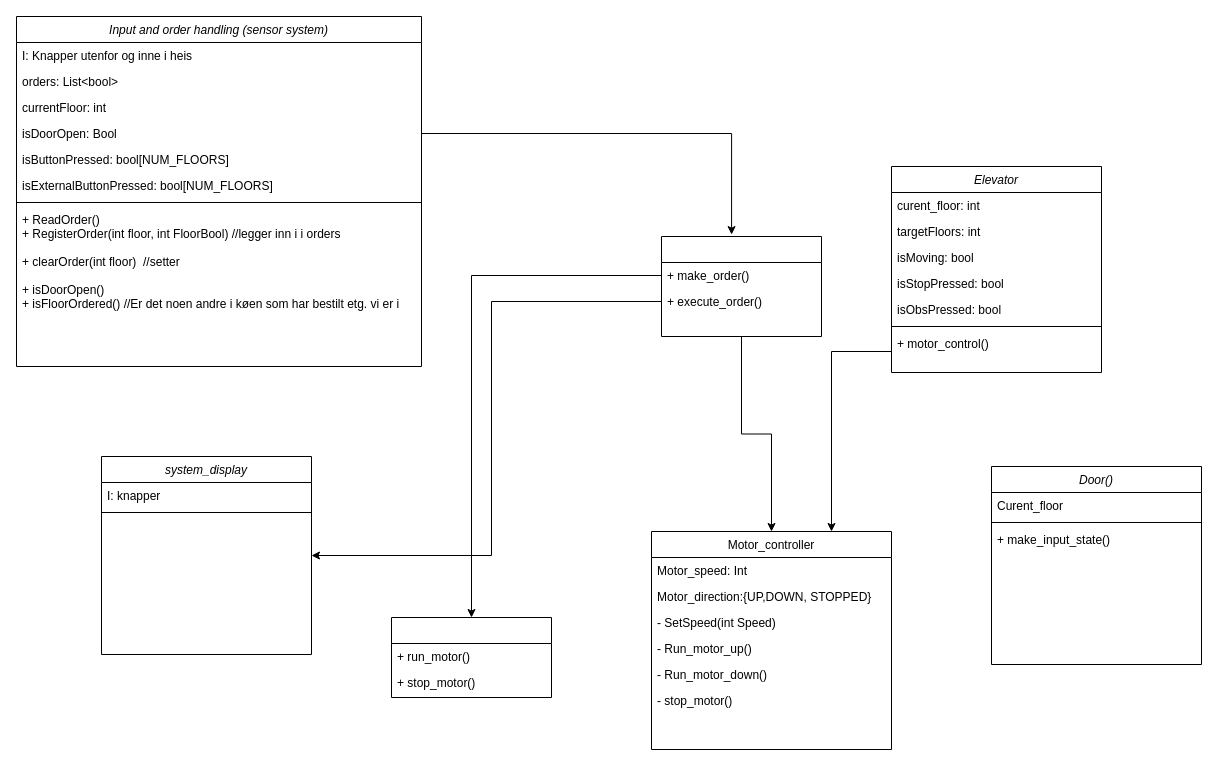
This 1218x766 diagram has some shape labels left out. The shapes that lost their labels are listed below. From the top down, each one's box as (x1, y1, x2, y2) in pixels, then its label:
(660, 236, 822, 336): elevator_logic
(390, 616, 552, 698): Feilhaantering
